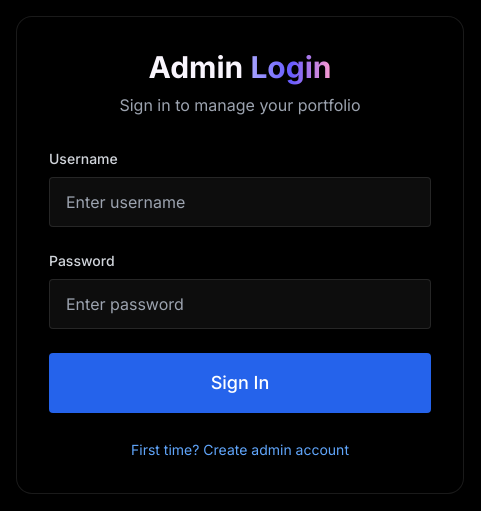
Test case: Login › toggles to register mode and shows "Create Account" button
Click the button "First time? Create admin account".
click(240, 450)  # box [131,440,349,460]
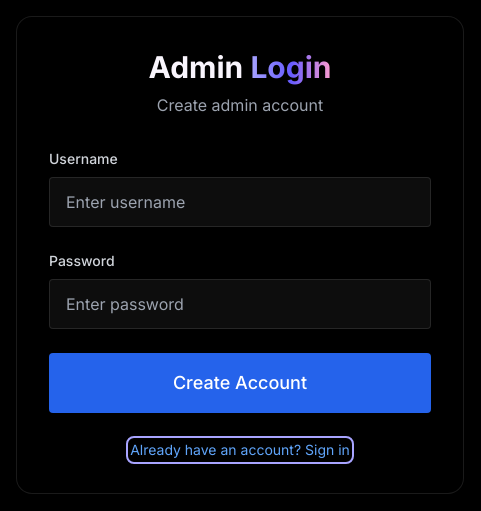
expect the button "Create Account" is shown: met, box [49,353,431,413]
